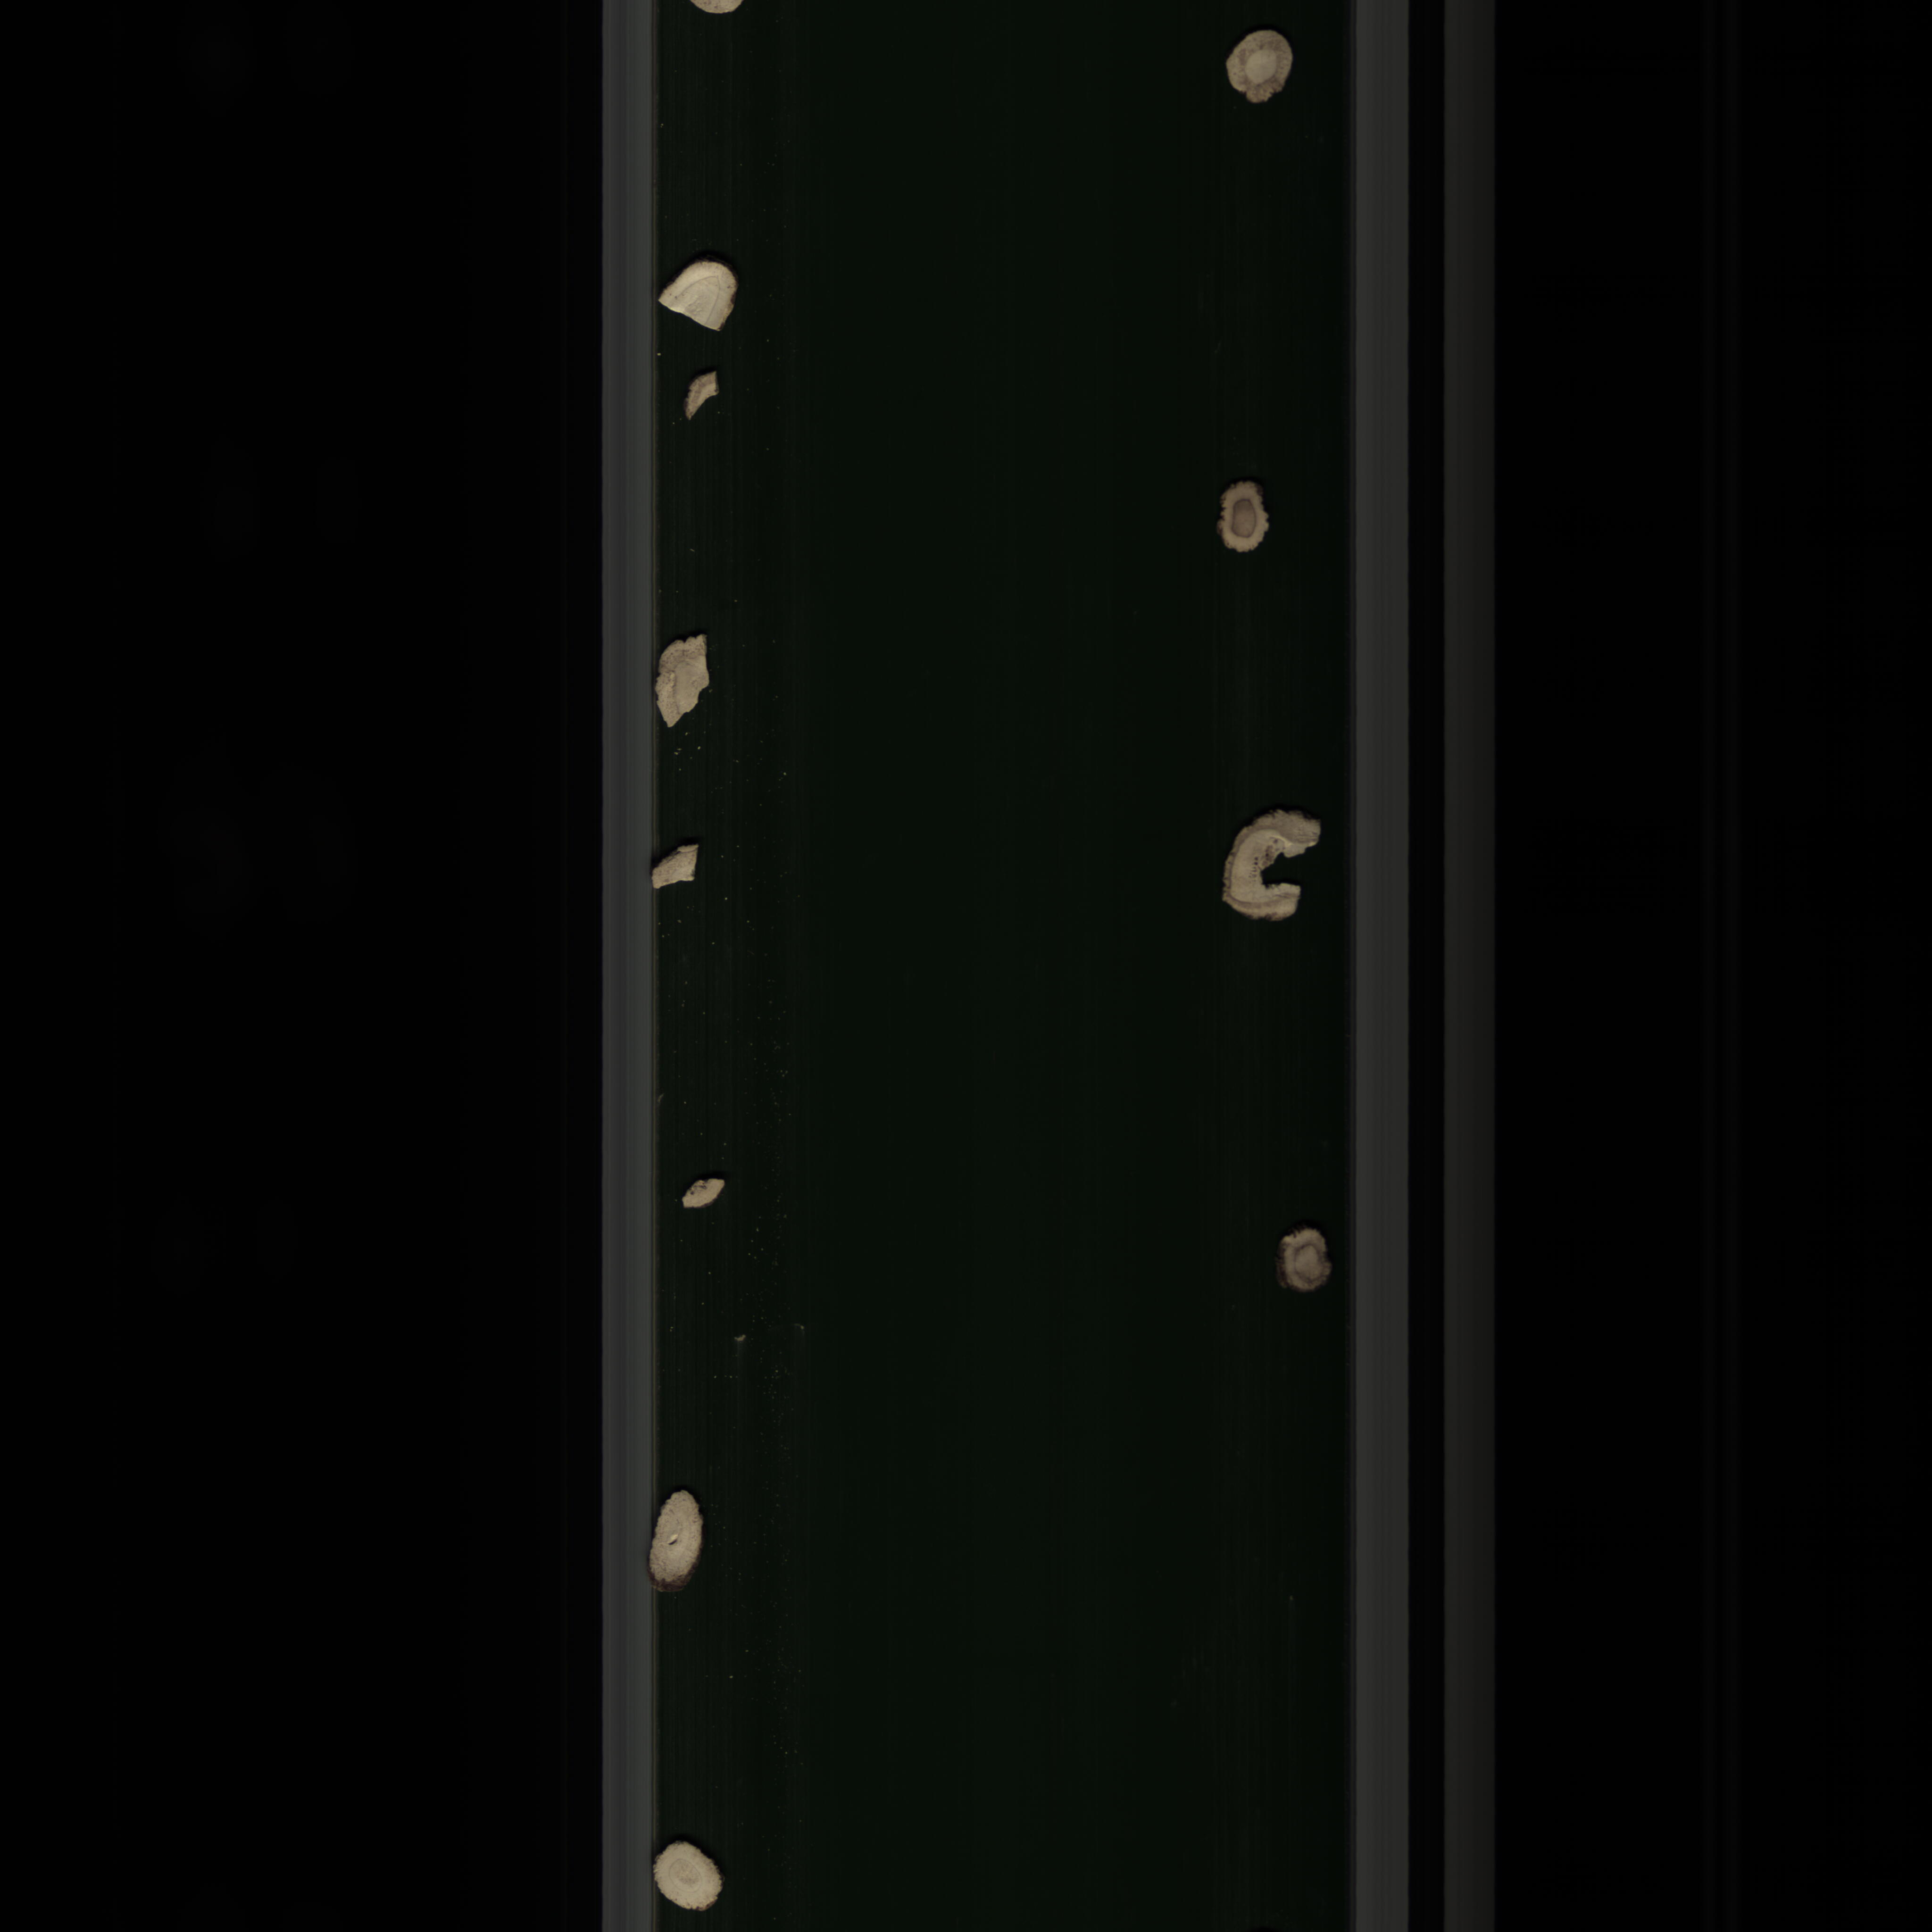bark: (683, 366, 725, 425)
debris: (1208, 801, 1327, 941), (656, 251, 740, 338), (651, 626, 715, 738), (653, 837, 713, 901), (678, 1169, 724, 1217)
distortion: (646, 1484, 717, 1598)
moldy: (1215, 471, 1274, 559), (1269, 1221, 1336, 1297)
